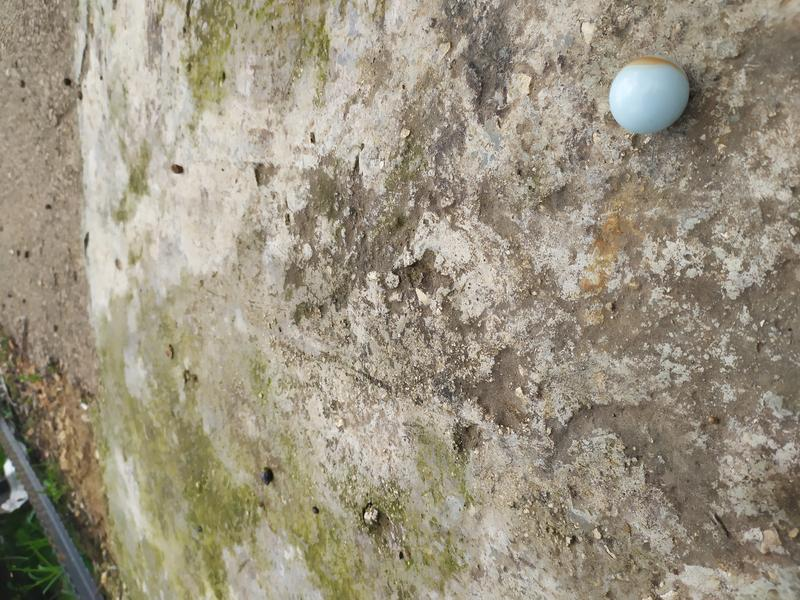Warning: (606, 51, 693, 138)
